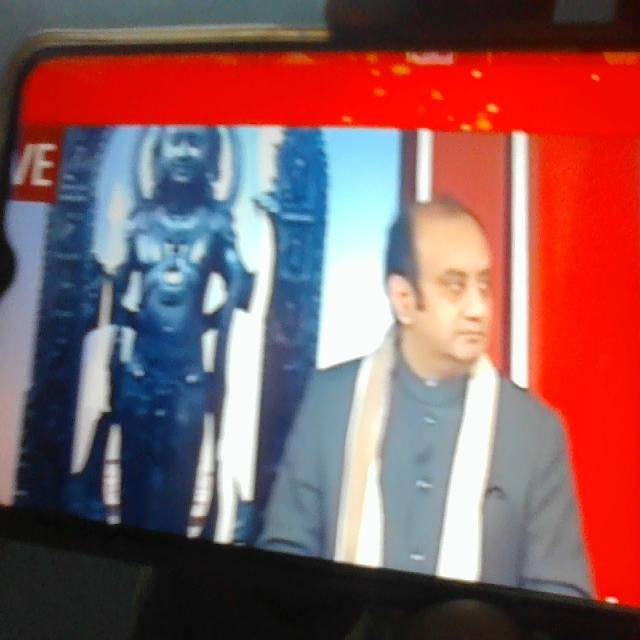fake: (392, 144, 524, 393)
